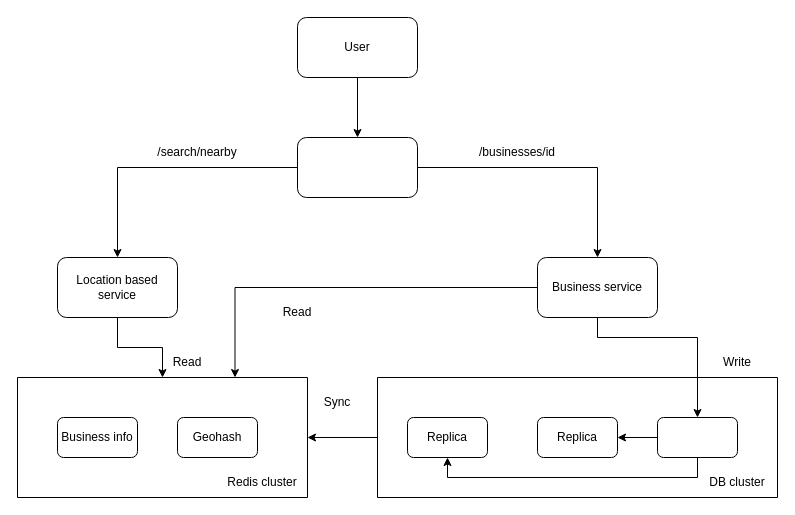
The diagram is 795 pixels wide and 515 high, and some of its shapes have lost their labels. The shapes that lost their labels are listed below. From the top down, each one's centre as x and y in pixels, then its label:
At (x=357, y=167): "Load balancer".
At (x=697, y=437): "Primary".
